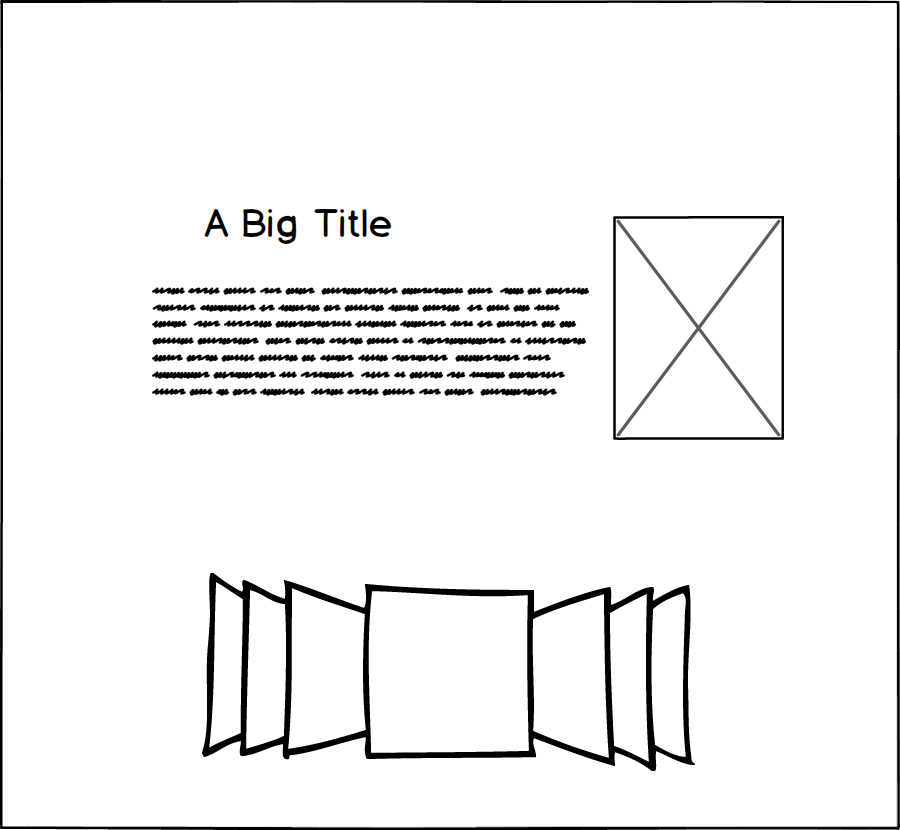h1: (198, 197, 401, 252)
image: (611, 212, 787, 444)
p: (149, 281, 602, 406)
slideshow: (187, 566, 713, 780)
